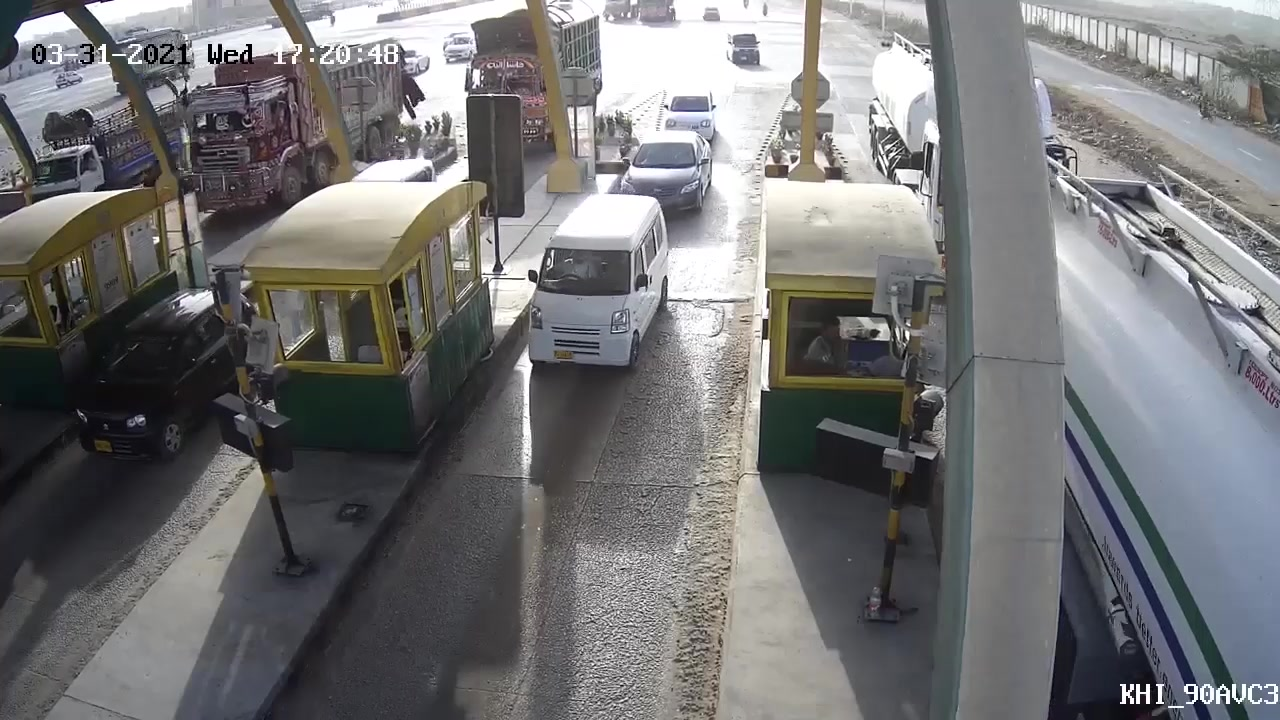F1: (503, 191, 682, 383)
